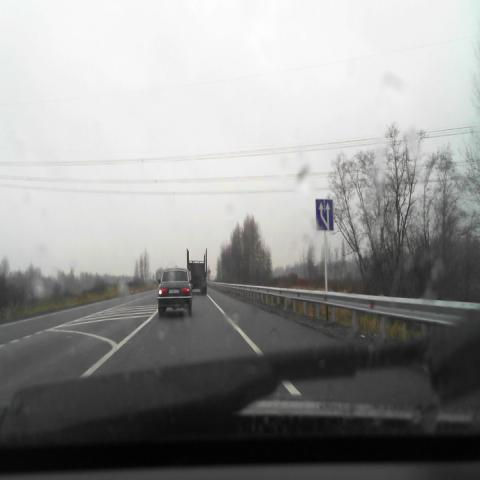5_15_3: (315, 199, 334, 231)
